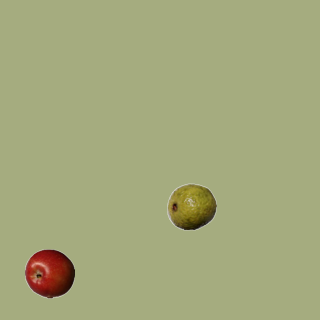Apple Braeburn: (24, 248, 74, 298)
Guava: (166, 181, 216, 231)
